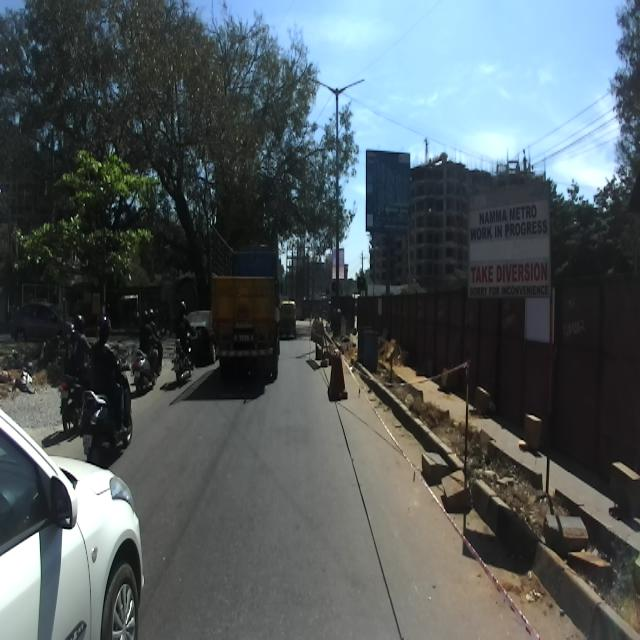barrier ahead at: (326, 342, 356, 411)
car ahead at: (0, 399, 148, 640)
motorcycle ahead at: (76, 384, 136, 456)
truck ahead at: (205, 239, 291, 384)
